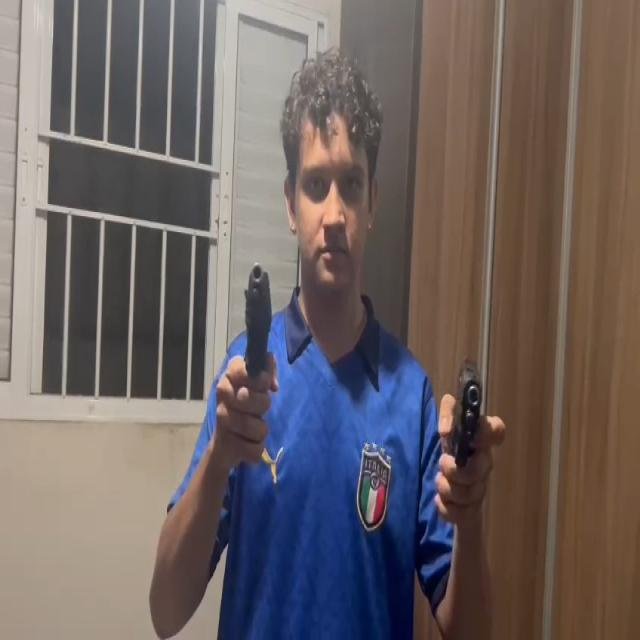guns: (242, 260, 274, 370), (452, 359, 484, 459)
